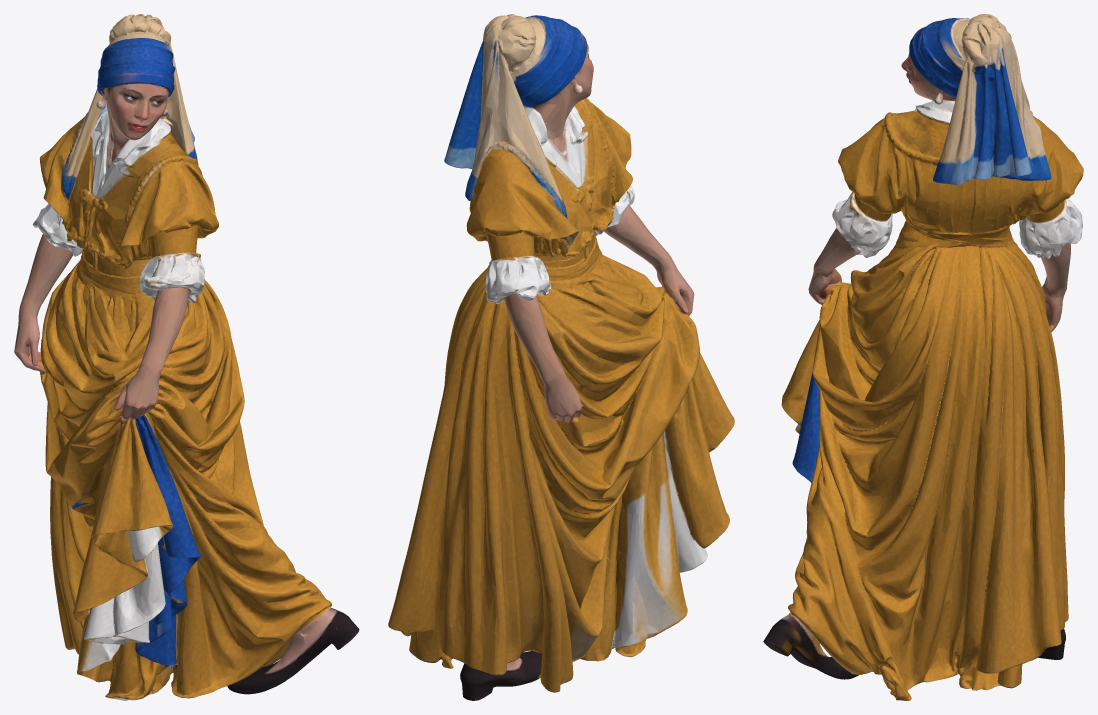
Rendered from girl-pearl_standing.glb.
3 views of the same model, side by side, from view 1: azimuth 30°, elevation 25°; view 2: azimuth 150°, elevation 25°; view 3: azimuth 270°, elevation 25° (orthographic). The views are drawn at different scales.
Parts seen in each view (by area): view 1: output_unwrapped; view 2: output_unwrapped; view 3: output_unwrapped.
Part boxes in pixels (x1=…): output_unwrapped: x1=14, y1=14, x2=359, y2=700; output_unwrapped: x1=388, y1=14, x2=734, y2=700; output_unwrapped: x1=763, y1=14, x2=1083, y2=700.
Size of the model in its own units: 0.7975 by 1.9 by 0.8641.
1 material, 1 textured.
